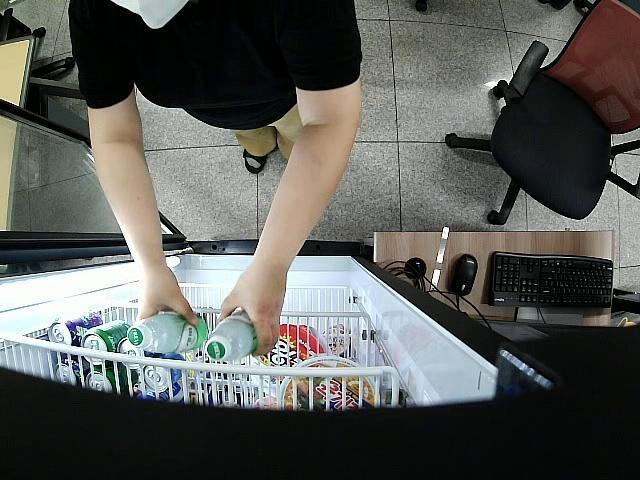18_trevi: (127, 312, 204, 356), (206, 307, 260, 360)
